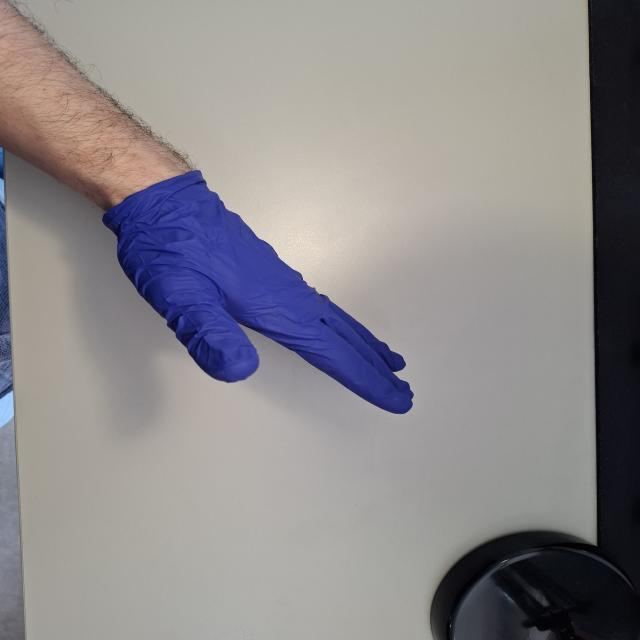glove_on: (92, 164, 420, 419)
